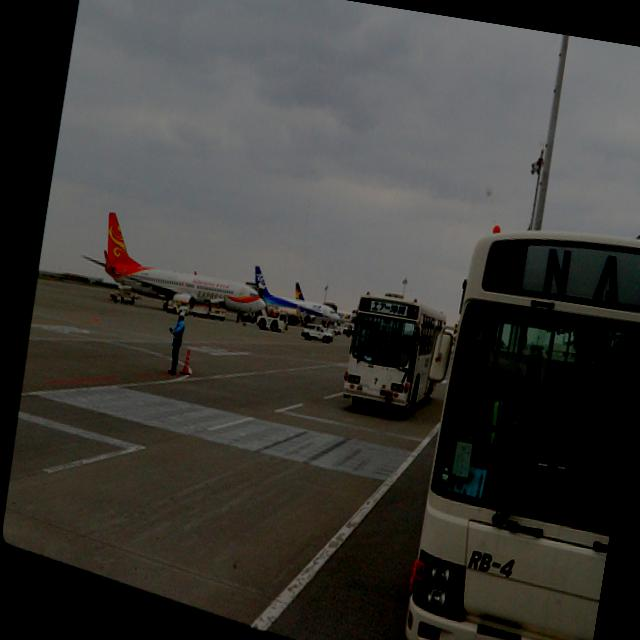Vehicle: (384, 211, 640, 640), (334, 296, 441, 420), (254, 307, 290, 334), (301, 322, 336, 344), (342, 322, 352, 336)
